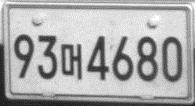0: (162, 36, 184, 83)
3: (37, 34, 59, 80)
4: (85, 34, 109, 80)
6: (112, 37, 134, 81)
8: (136, 36, 158, 82)
9: (13, 34, 36, 80)
머: (59, 42, 83, 82)
